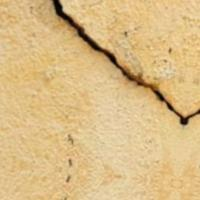crack: (51, 0, 199, 131)
